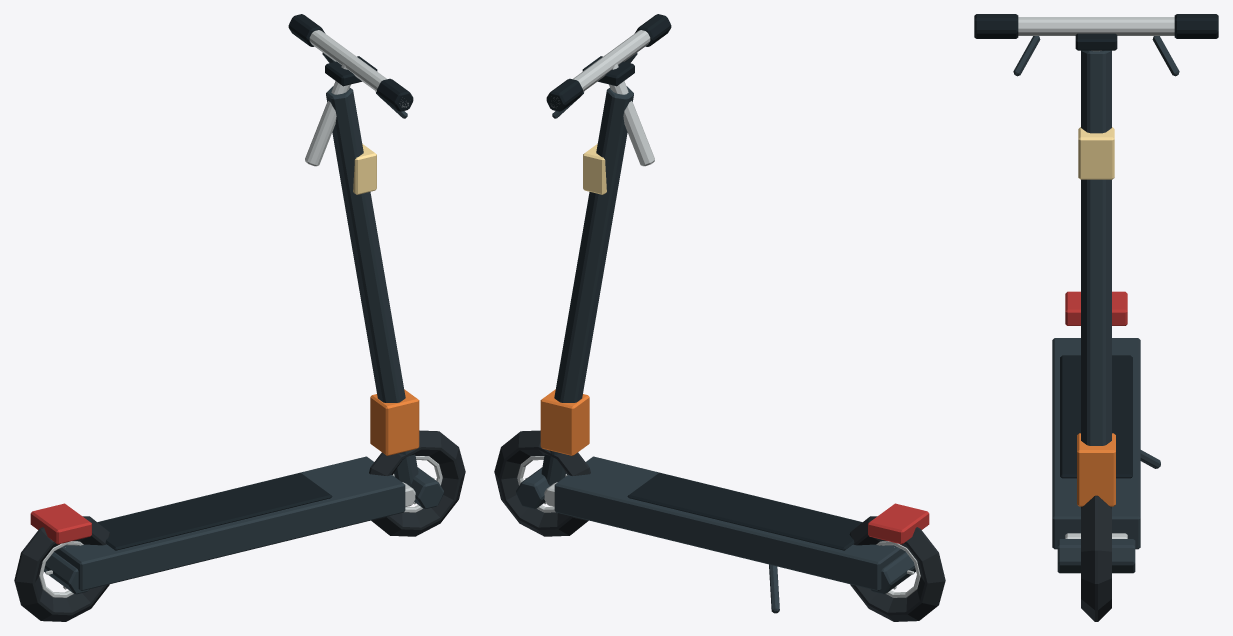
Rendered from b03_battery_kick_scooter.glb.
The picture shows the model from 3 angles, left to right: view 1: azimuth 30°, elevation 25°; view 2: azimuth 150°, elevation 25°; view 3: azimuth 270°, elevation 25°; orthographic projection. The views are drawn at different scales.
Parts seen in each view (by area): view 1: b03_battery_kick_scooter; view 2: b03_battery_kick_scooter; view 3: b03_battery_kick_scooter.
Boxes of the visible parts, x1=… form: b03_battery_kick_scooter: x1=14, y1=14, x2=465, y2=621; b03_battery_kick_scooter: x1=494, y1=14, x2=945, y2=621; b03_battery_kick_scooter: x1=974, y1=14, x2=1218, y2=621.
Bounding box in the file's own units: 1.13 × 1.2 × 0.47.
